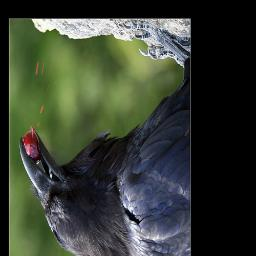Crow: (18, 19, 190, 256)
